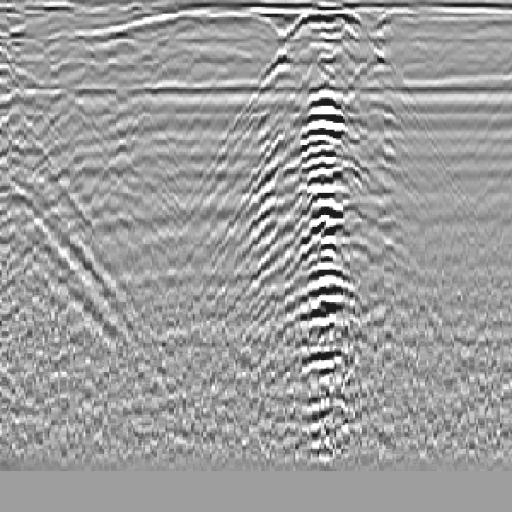metalic: (220, 72, 421, 419)
